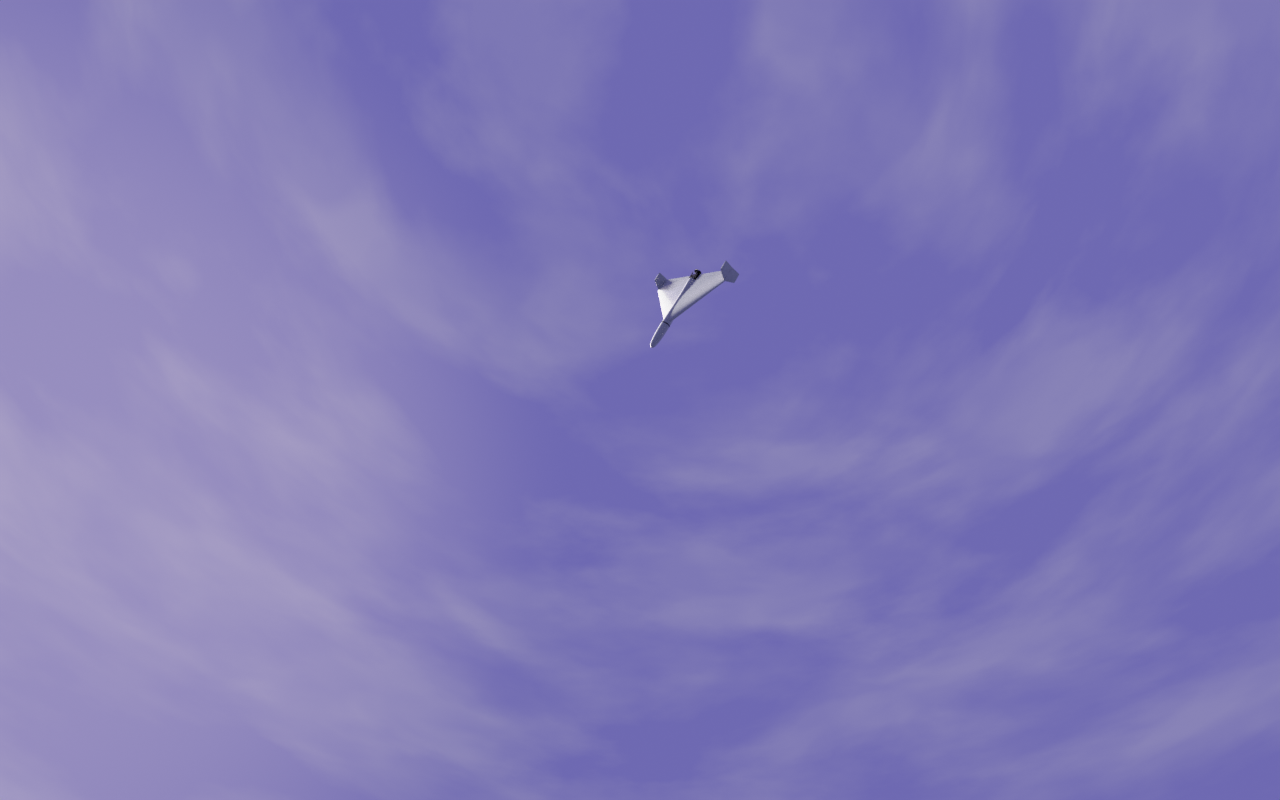shahed: (650, 260, 741, 350)
